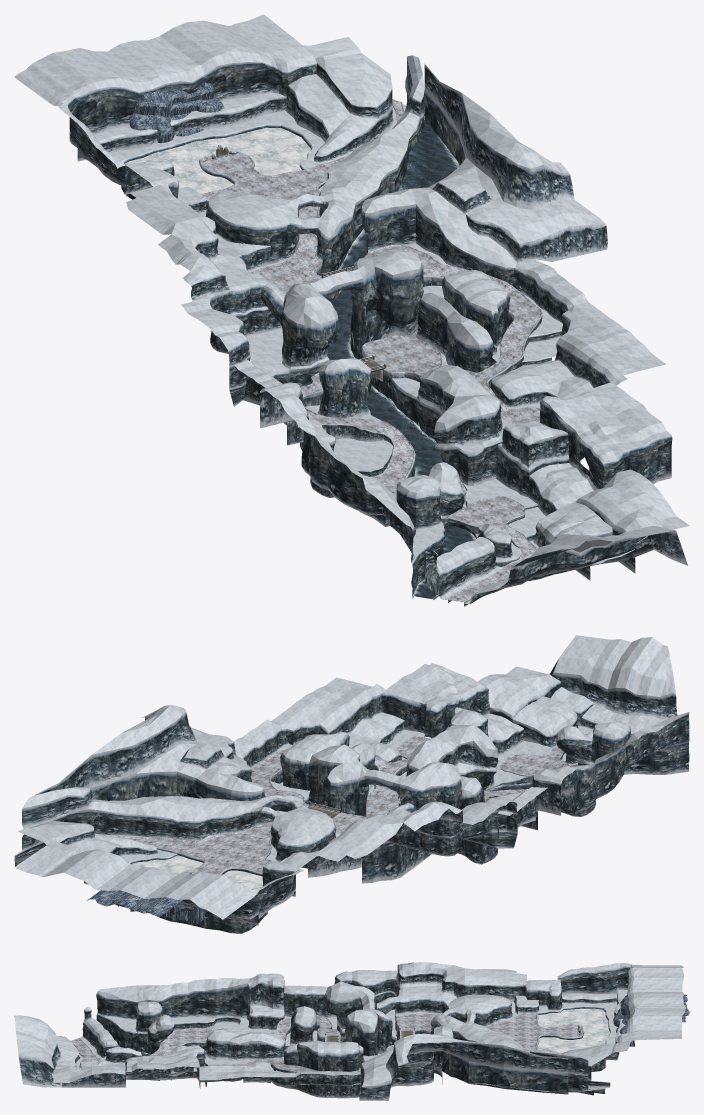
Rendered from YumirValley2.obj.
The picture shows the model from 3 angles, top to bottom: view 1: azimuth 30°, elevation 25°; view 2: azimuth 150°, elevation 25°; view 3: azimuth 270°, elevation 25°; orthographic projection. The views are drawn at different scales.
Parts seen in each view (by area): view 1: Object.330, Object.323, Object.322, Object.308, Object.314, Object.325, Object.334; view 2: Object.330, Object.323, Object.322, Object.308, Object.334, Object.325; view 3: Object.330, Object.323, Object.322, Object.308, Object.325, Object.334.
Boxes of the visible parts, <box> form: Object.330: <box>14,14,689,604</box>; Object.323: <box>67,62,672,606</box>; Object.322: <box>77,56,687,603</box>; Object.308: <box>200,99,542,602</box>; Object.314: <box>327,120,475,599</box>; Object.325: <box>125,127,310,193</box>; Object.334: <box>129,82,224,143</box>; Object.330: <box>14,635,689,919</box>; Object.323: <box>15,686,689,933</box>; Object.322: <box>14,659,677,925</box>; Object.308: <box>18,732,590,874</box>; Object.334: <box>87,890,209,927</box>; Object.325: <box>132,855,262,889</box>; Object.330: <box>14,962,685,1090</box>; Object.323: <box>71,966,630,1098</box>; Object.322: <box>18,965,619,1100</box>; Object.308: <box>71,1012,603,1090</box>; Object.325: <box>537,1008,609,1053</box>; Object.334: <box>613,994,689,1046</box>.
Size of the model in its own units: 146 by 60.57 by 335.
Materials: 14 (14 with a texture image).
